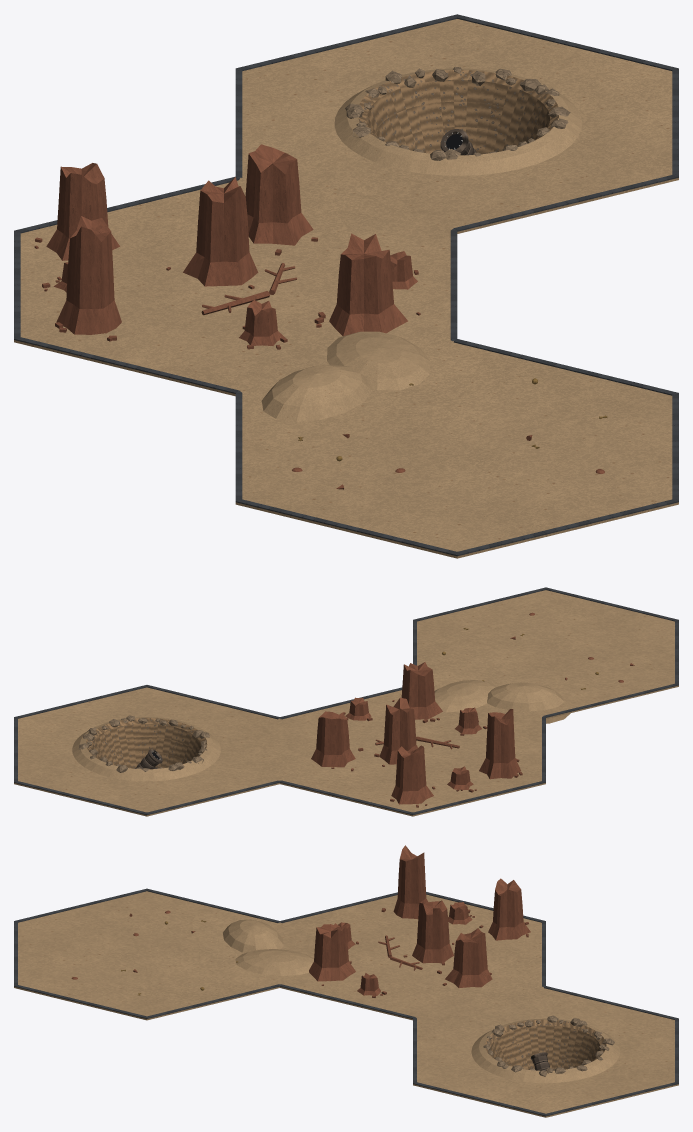
File: WasteHex_Bend3.glb
3 renders of one model, top to bottom at view 1: azimuth 30°, elevation 25°; view 2: azimuth 150°, elevation 25°; view 3: azimuth 270°, elevation 25°, orthographic. The views are drawn at different scales.
Parts seen in each view (by area): view 1: WasteHex_Bend3_Ground, WasteHex_Bend3_Prop_Petrified, WasteHex_Bend3_GroundTrim, WasteHex_Bend3_Prop_PitWall, WasteHex_Bend3_Prop_Drift, WasteHex_Bend3_Prop_PitRim, WasteHex_Bend3_Prop_Rock, WasteHex_Bend3_Prop_Branch; view 2: WasteHex_Bend3_Ground, WasteHex_Bend3_Prop_Petrified, WasteHex_Bend3_GroundTrim, WasteHex_Bend3_Prop_PitWall, WasteHex_Bend3_Prop_Drift, WasteHex_Bend3_Prop_PitRim, WasteHex_Bend3_Prop_Rock; view 3: WasteHex_Bend3_Ground, WasteHex_Bend3_Prop_Petrified, WasteHex_Bend3_GroundTrim, WasteHex_Bend3_Prop_PitWall, WasteHex_Bend3_Prop_Drift, WasteHex_Bend3_Prop_PitRim, WasteHex_Bend3_Prop_Rock.
Part boxes in pixels (x1=…): WasteHex_Bend3_Ground: x1=14, y1=19, x2=678, y2=558; WasteHex_Bend3_Prop_Petrified: x1=34, y1=144, x2=420, y2=349; WasteHex_Bend3_GroundTrim: x1=14, y1=14, x2=678, y2=556; WasteHex_Bend3_Prop_PitWall: x1=358, y1=70, x2=558, y2=154; WasteHex_Bend3_Prop_Drift: x1=261, y1=331, x2=430, y2=421; WasteHex_Bend3_Prop_PitRim: x1=334, y1=68, x2=581, y2=175; WasteHex_Bend3_Prop_Rock: x1=345, y1=66, x2=570, y2=160; WasteHex_Bend3_Prop_Branch: x1=201, y1=263, x2=296, y2=315; WasteHex_Bend3_Ground: x1=14, y1=590, x2=678, y2=816; WasteHex_Bend3_Prop_Petrified: x1=311, y1=662, x2=522, y2=807; WasteHex_Bend3_GroundTrim: x1=14, y1=587, x2=678, y2=814; WasteHex_Bend3_Prop_PitWall: x1=86, y1=718, x2=207, y2=768; WasteHex_Bend3_Prop_Drift: x1=434, y1=680, x2=570, y2=723; WasteHex_Bend3_Prop_PitRim: x1=72, y1=717, x2=220, y2=781; WasteHex_Bend3_Prop_Rock: x1=78, y1=715, x2=209, y2=772; WasteHex_Bend3_Ground: x1=14, y1=891, x2=678, y2=1117; WasteHex_Bend3_Prop_Petrified: x1=309, y1=845, x2=530, y2=997; WasteHex_Bend3_GroundTrim: x1=14, y1=888, x2=678, y2=1116; WasteHex_Bend3_Prop_PitWall: x1=485, y1=1019, x2=606, y2=1069; WasteHex_Bend3_Prop_Drift: x1=223, y1=919, x2=313, y2=975; WasteHex_Bend3_Prop_PitRim: x1=471, y1=1018, x2=619, y2=1083; WasteHex_Bend3_Prop_Rock: x1=483, y1=1015, x2=614, y2=1076.
Size of the model in its own units: 21 by 4.54 by 25.98.
11 materials, 11 textured.
